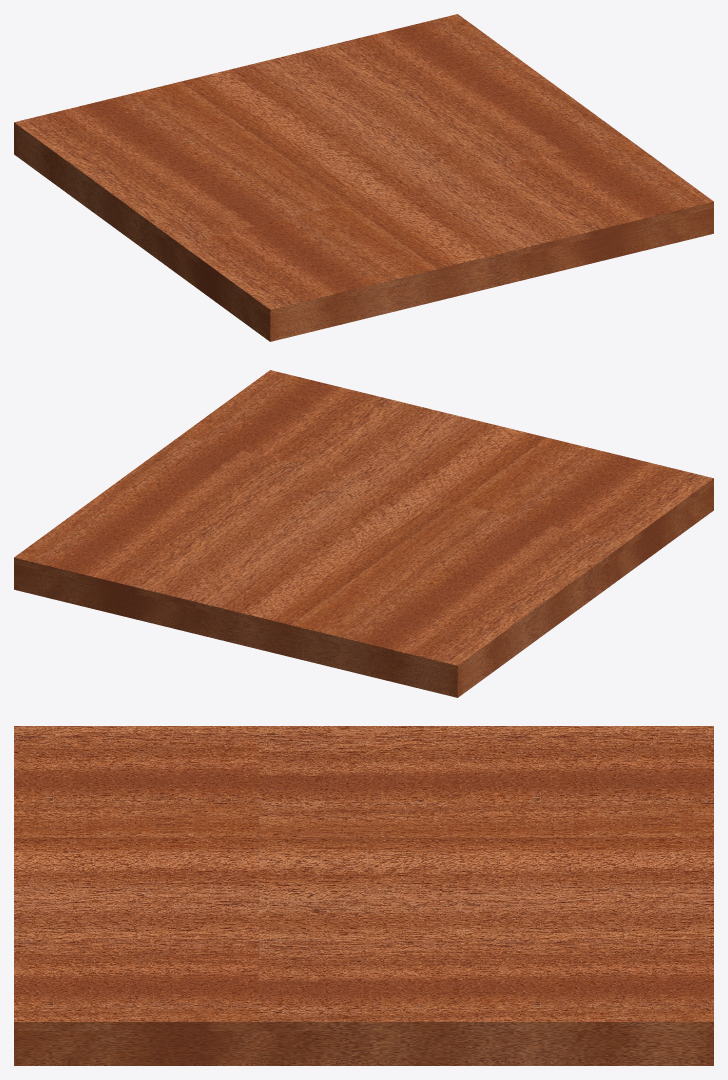
The model's file is board.obj.
3 renders of one model, top to bottom at view 1: azimuth 30°, elevation 25°; view 2: azimuth 150°, elevation 25°; view 3: azimuth 270°, elevation 25°, orthographic. The views are drawn at different scales.
Parts seen in each view (by area): view 1: Chess_board_Wood_0; view 2: Chess_board_Wood_0; view 3: Chess_board_Wood_0.
Boxes of the visible parts, bbox=[...] form: Chess_board_Wood_0: bbox=[14, 14, 713, 341]; Chess_board_Wood_0: bbox=[14, 370, 713, 697]; Chess_board_Wood_0: bbox=[14, 726, 713, 1065].
Size of the model in its own units: 12.82 by 0.8874 by 12.82.
2 materials, 2 textured.
